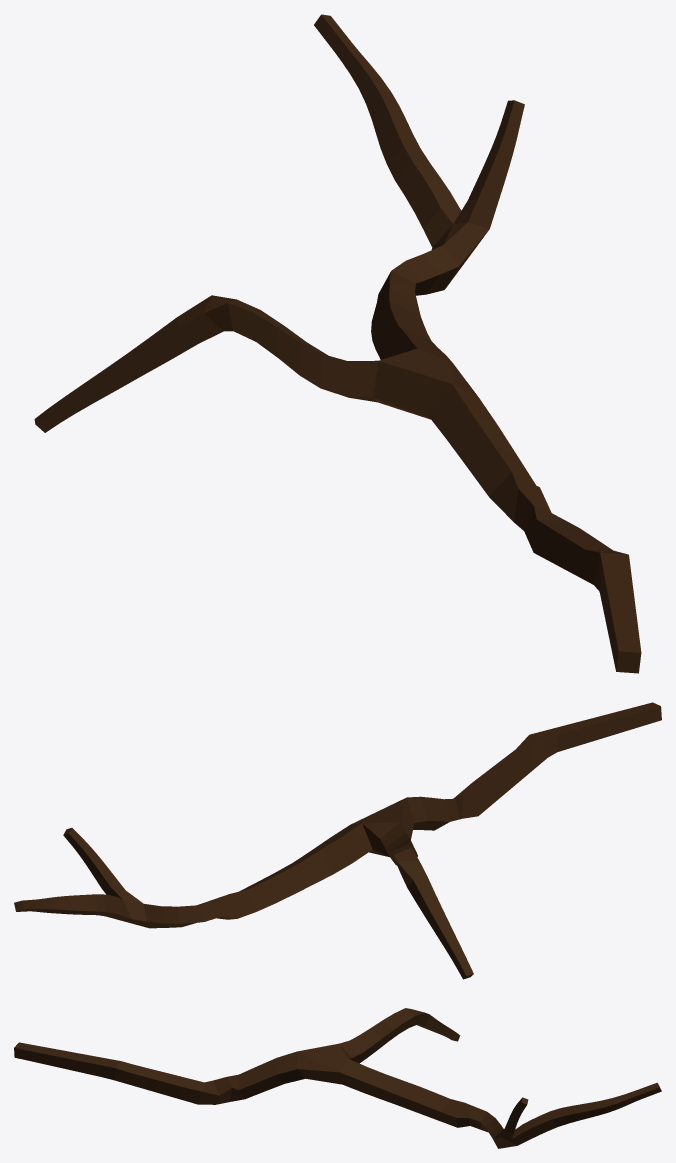
File: Branch_001.fbx
The picture shows the model from 3 angles, top to bottom: view 1: azimuth 30°, elevation 25°; view 2: azimuth 150°, elevation 25°; view 3: azimuth 270°, elevation 25°; orthographic projection. The views are drawn at different scales.
Visible parts, largest first — view 1: branch_001; view 2: branch_001; view 3: branch_001.
Part boxes in pixels (bbox=[...]): branch_001: bbox=[34, 14, 641, 673]; branch_001: bbox=[14, 702, 661, 979]; branch_001: bbox=[14, 1008, 661, 1148].
Bounding box in the file's own units: 130 × 33.66 × 262.
